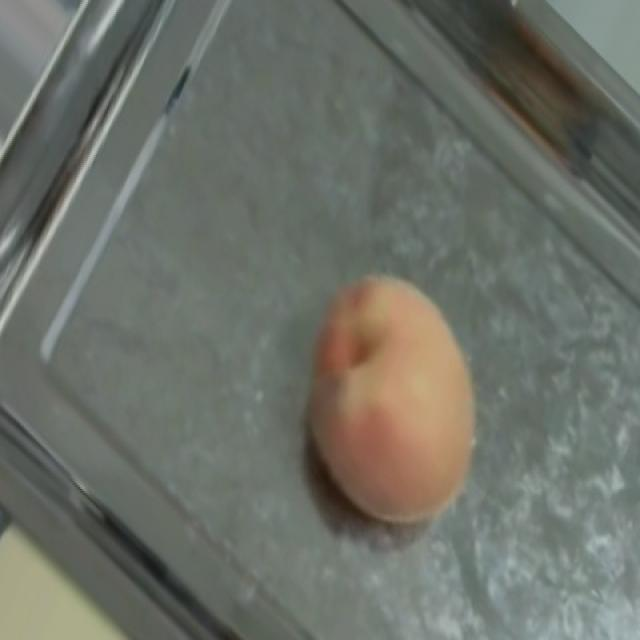Fruit: (261, 240, 511, 552), (0, 493, 179, 640)
